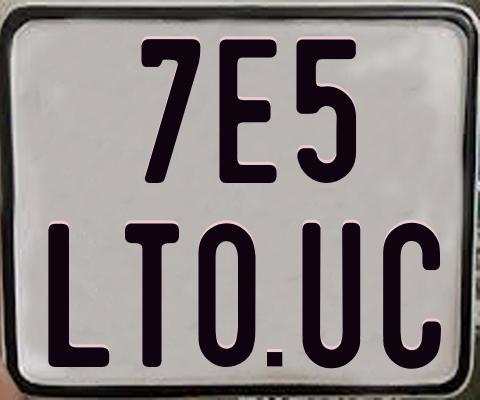0: (198, 223, 262, 369)
5: (295, 38, 361, 183)
7: (141, 37, 204, 185)
C: (382, 221, 443, 370)
E: (216, 38, 277, 184)
L: (47, 224, 114, 369)
T: (124, 221, 178, 368)
U: (301, 223, 365, 372)
